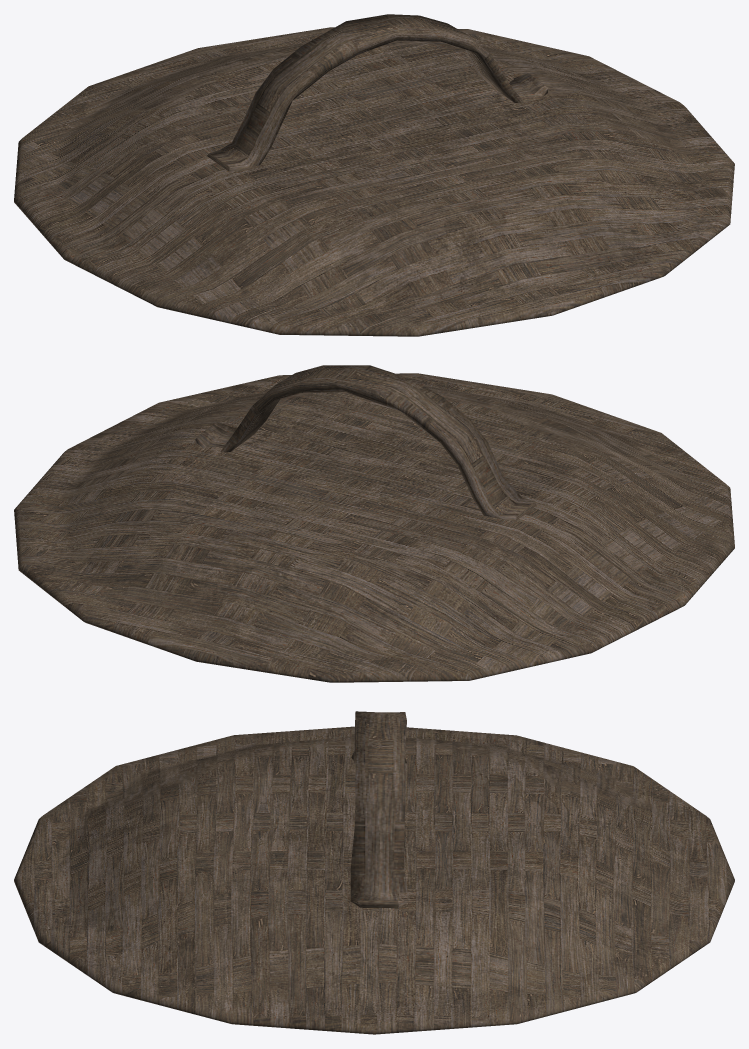
File: SM_basket06.fbx
3 views of the same model, one above another, from view 1: azimuth 30°, elevation 25°; view 2: azimuth 150°, elevation 25°; view 3: azimuth 270°, elevation 25° (orthographic).
Visible parts, largest first — view 1: SM_basket06_LOD0; view 2: SM_basket06_LOD0; view 3: SM_basket06_LOD0.
Boxes of the visible parts, x1,y1,x2,y2 form: SM_basket06_LOD0: (14, 14, 734, 336); SM_basket06_LOD0: (14, 365, 734, 682); SM_basket06_LOD0: (14, 711, 734, 1034).
Bounding box in the file's own units: 42.12 × 42.12 × 10.22.
